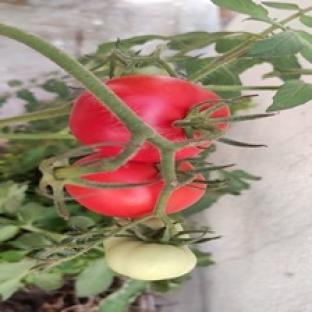Tomato: (105, 76, 220, 142), (66, 162, 164, 217), (105, 237, 196, 281)
